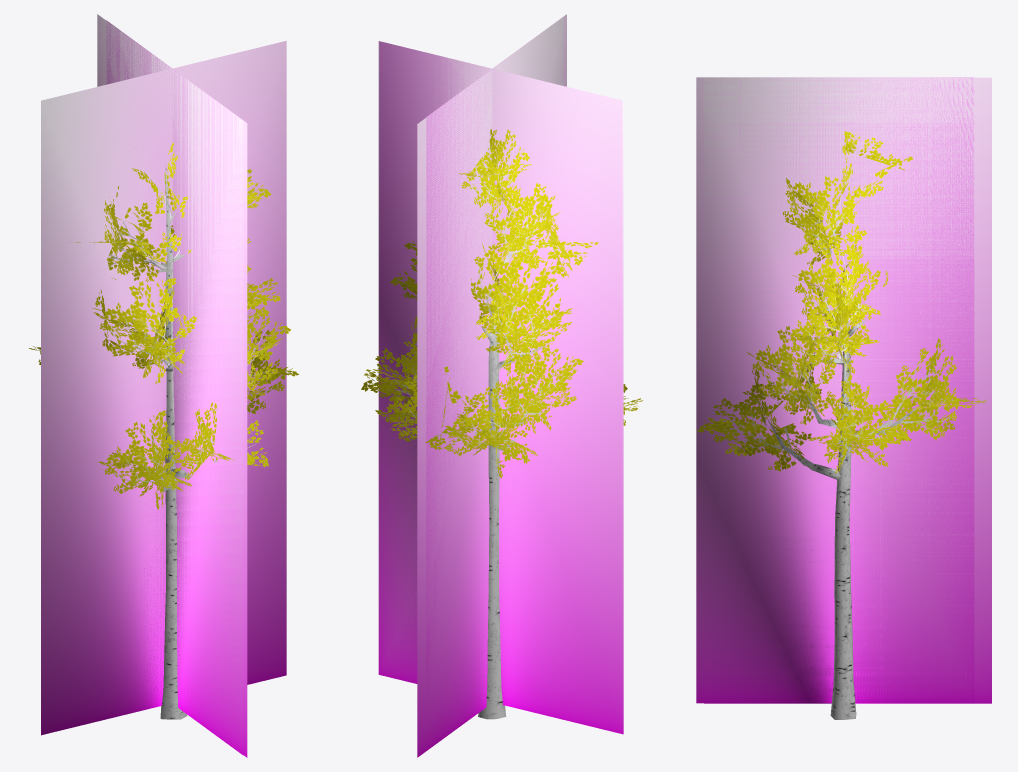
The model's file is FAE_Birch_B.fbx.
3 renders of one model, left to right at view 1: azimuth 30°, elevation 25°; view 2: azimuth 150°, elevation 25°; view 3: azimuth 270°, elevation 25°, orthographic.
Visible parts, largest first — view 1: FAE_Birch_B_Billboard, FAE_Birch_B_LOD0; view 2: FAE_Birch_B_Billboard, FAE_Birch_B_LOD0; view 3: FAE_Birch_B_Billboard, FAE_Birch_B_LOD0.
Boxes of the visible parts, x1,y1,x2,y2 form: FAE_Birch_B_Billboard: (41,14,286,757); FAE_Birch_B_LOD0: (29,143,299,719); FAE_Birch_B_Billboard: (378,14,623,757); FAE_Birch_B_LOD0: (361,129,642,719); FAE_Birch_B_Billboard: (696,77,991,703); FAE_Birch_B_LOD0: (697,131,986,719).
Size of what is drawn, in the model's own units: 689 by 1619 by 745.
3 materials, 2 textured.
